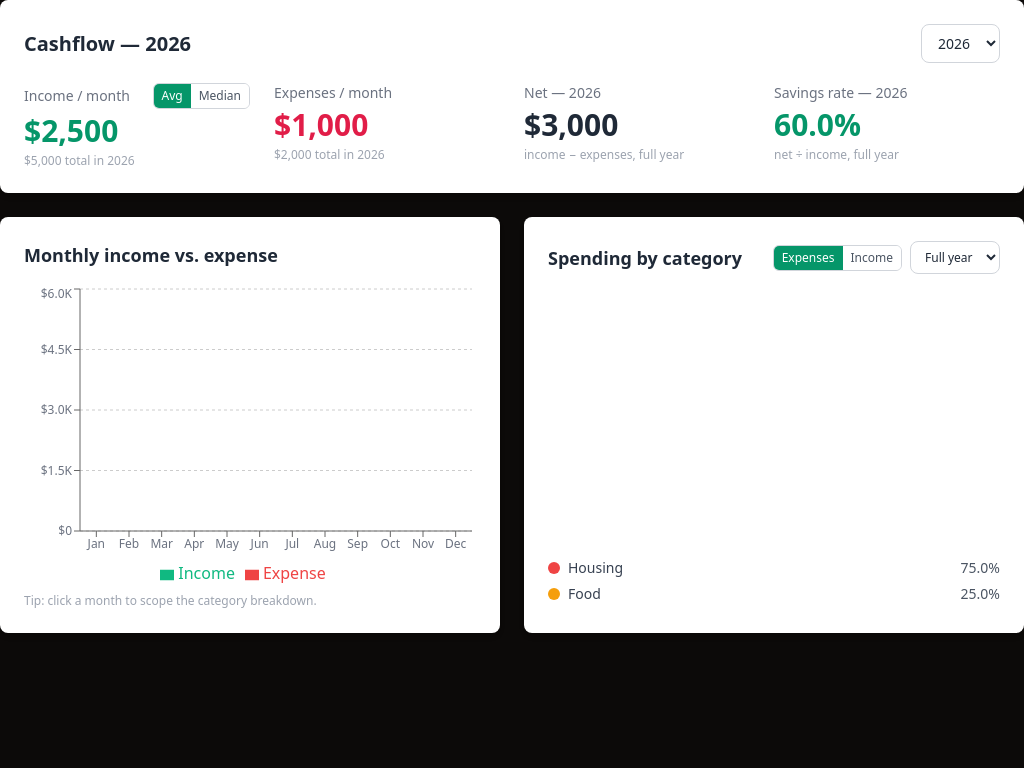
Test: CashflowDashboard — v0.15.2 additions › the pie toggles to income by category
expect the heading "Spending by category" is shown: met, box [548, 244, 742, 272]
Click the button "Income" at coordinates (872, 258), box [842, 246, 901, 270]
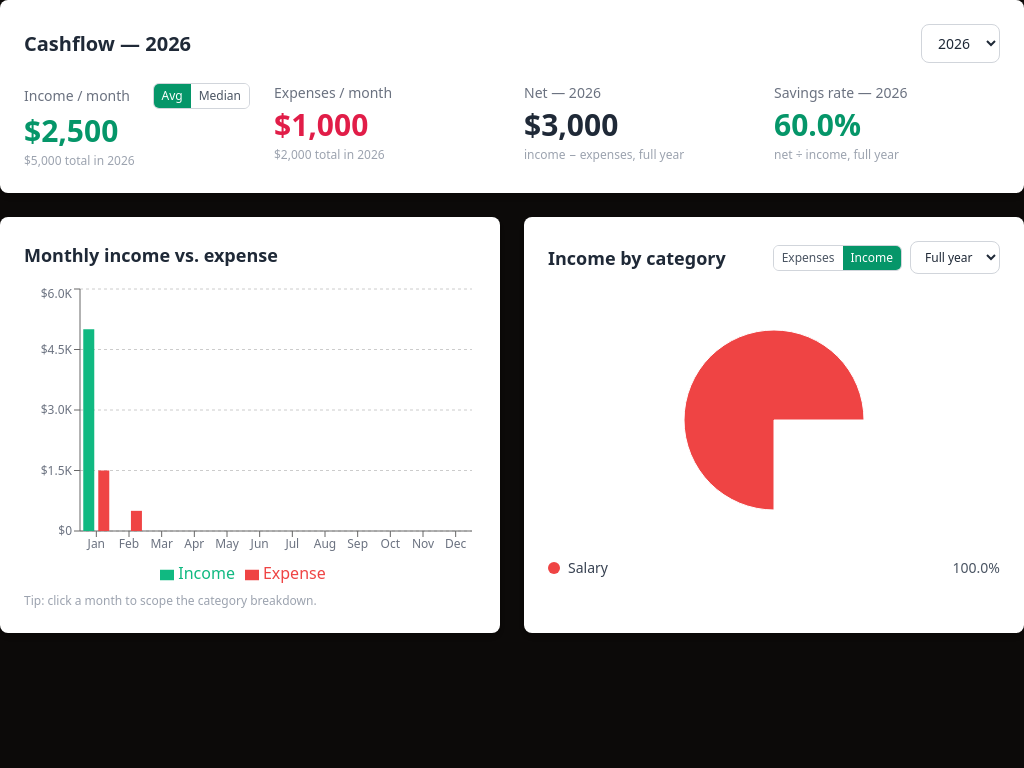
expect the heading "Income by category" is shown: met, box [548, 244, 726, 272]
expect the text "Salary" is shown: met, box [548, 558, 608, 578]
